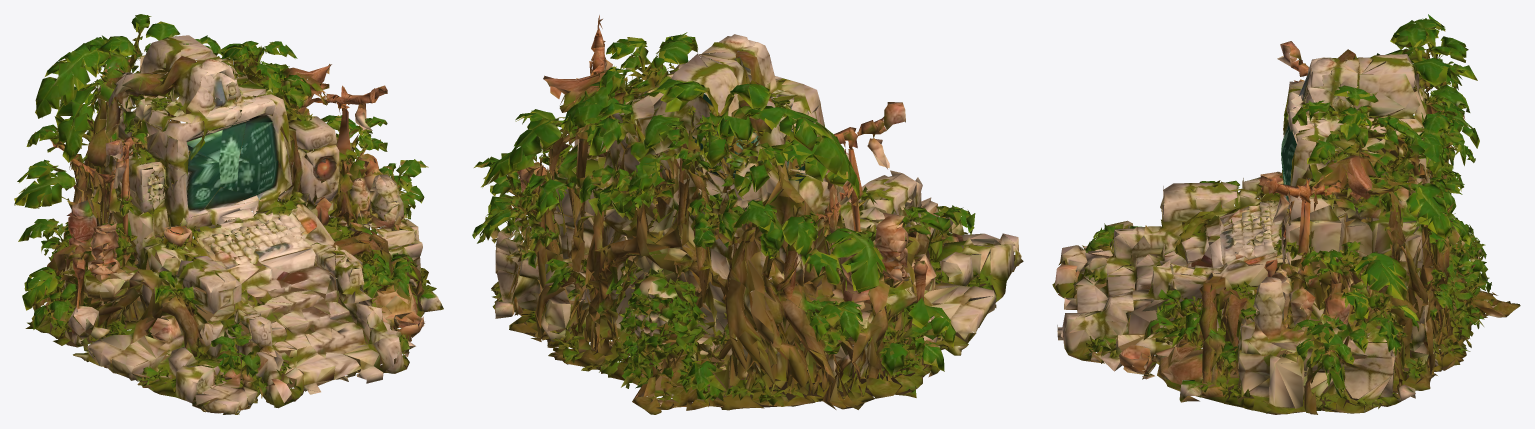
Rendered from JungleComputer_LOD1.v3.glb.
3 views of the same model, side by side, from view 1: azimuth 30°, elevation 25°; view 2: azimuth 150°, elevation 25°; view 3: azimuth 270°, elevation 25° (orthographic). The views are drawn at different scales.
Parts seen in each view (by area): view 1: LOW; view 2: LOW; view 3: LOW.
Boxes of the visible parts, bbox=[...] form: LOW: bbox=[14, 14, 443, 414]; LOW: bbox=[472, 15, 1023, 414]; LOW: bbox=[1052, 14, 1520, 414].
Size of the model in its own units: 1.87 by 1.11 by 1.78.
1 material, 1 textured.
